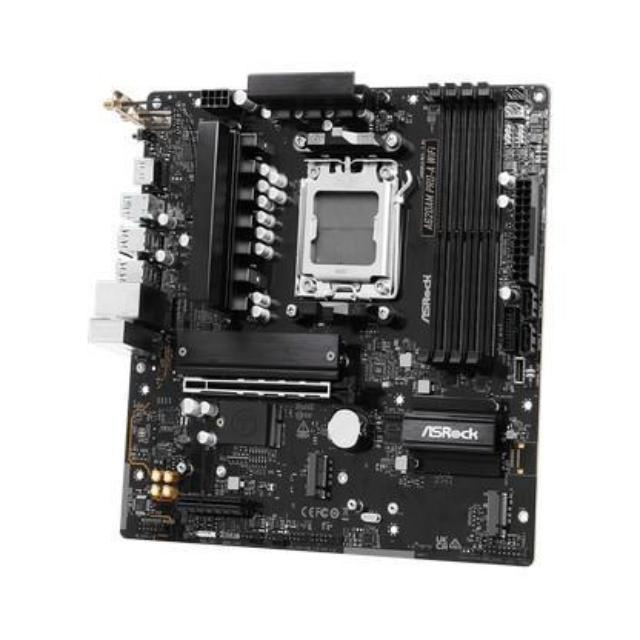Mainboard: (102, 62, 564, 580)
